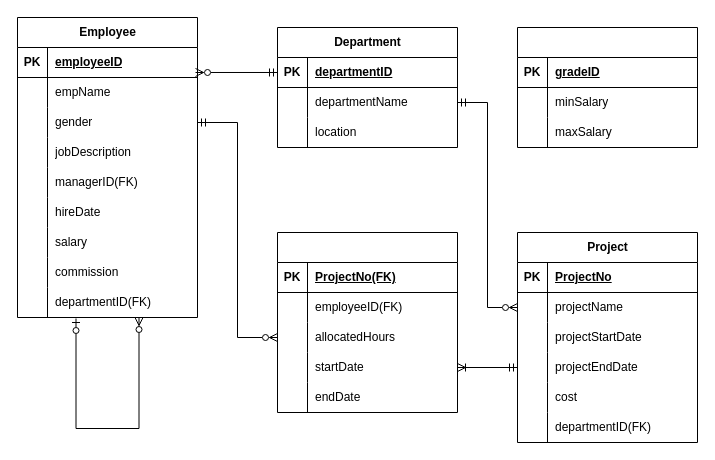
The diagram is 715 pixels wide and 460 high, and some of its shapes have lost their labels. Here are the shapes that lost their labels. From the top down, the box of each, then its label:
(516, 26, 698, 148): Salary_Grade
(276, 232, 458, 412): Project_Assignment
